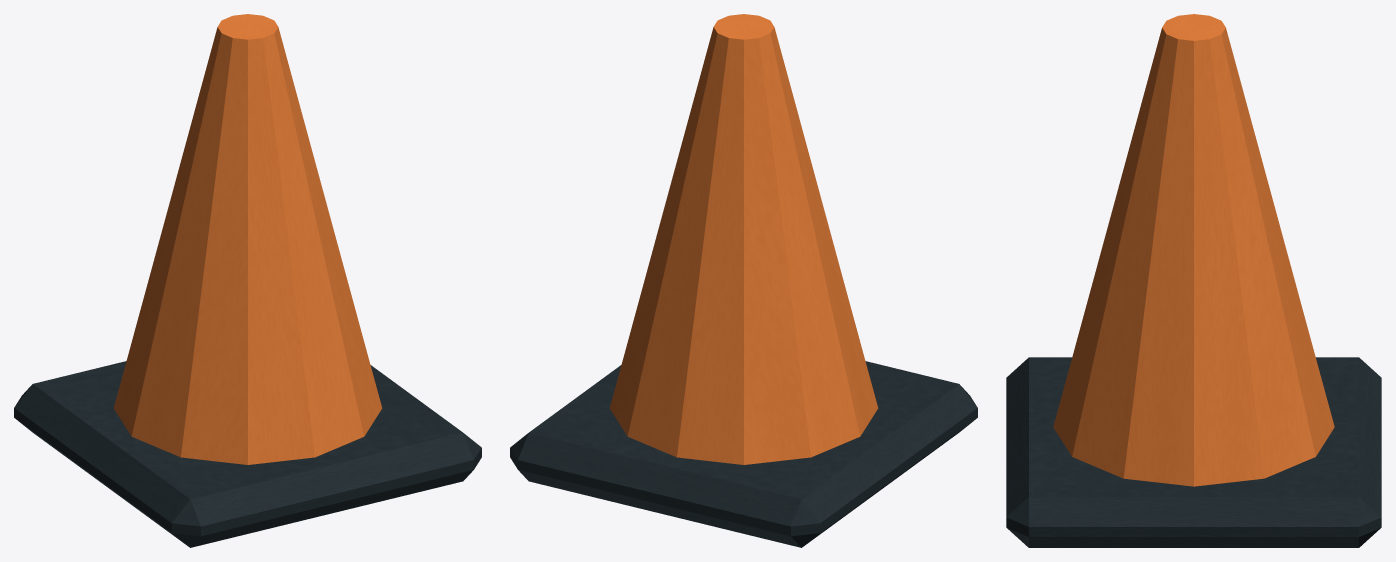
Rendered from traffic-cone.glb.
The picture shows the model from 3 angles, left to right: view 1: azimuth 30°, elevation 25°; view 2: azimuth 150°, elevation 25°; view 3: azimuth 270°, elevation 25°; orthographic projection. The views are drawn at different scales.
Parts seen in each view (by area): view 1: traffic-cone; view 2: traffic-cone; view 3: traffic-cone.
Boxes of the visible parts, x1,y1,x2,y2 form: traffic-cone: (14, 14, 481, 547); traffic-cone: (510, 14, 977, 547); traffic-cone: (1006, 14, 1381, 547).
Size of the model in its own units: 0.4 by 0.53 by 0.4.
Materials: 1 (1 with a texture image).
